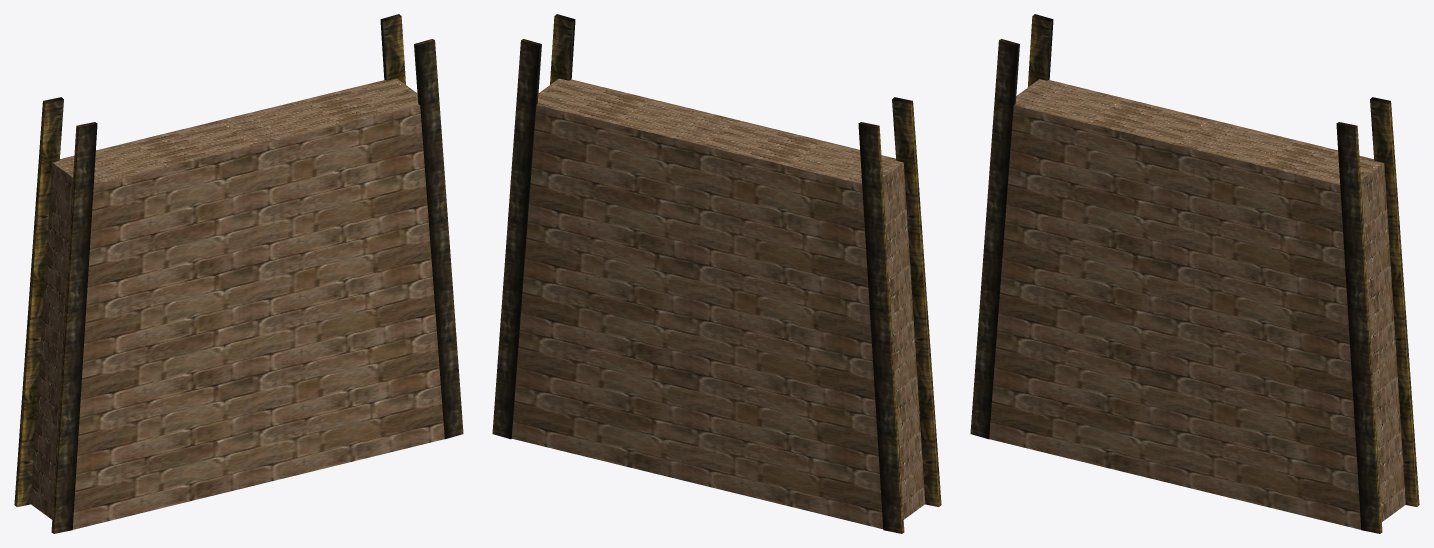
The model's file is CB_NEWPLAYSURFACE_TOWERWALL03.fbx.
3 views of the same model, side by side, from view 1: azimuth 30°, elevation 25°; view 2: azimuth 150°, elevation 25°; view 3: azimuth 330°, elevation 25° (orthographic).
Parts seen in each view (by area): view 1: CB_NEWPLAYSURFACE_TOWERWALL03; view 2: CB_NEWPLAYSURFACE_TOWERWALL03; view 3: CB_NEWPLAYSURFACE_TOWERWALL03.
Boxes of the visible parts, box(x1,y1,x2,y2) form: CB_NEWPLAYSURFACE_TOWERWALL03: box(14, 14, 463, 533); CB_NEWPLAYSURFACE_TOWERWALL03: box(492, 14, 941, 533); CB_NEWPLAYSURFACE_TOWERWALL03: box(970, 14, 1419, 533).
Size of the model in its own units: 65922 by 61538 by 11054.
Materials: 2 (2 with a texture image).
